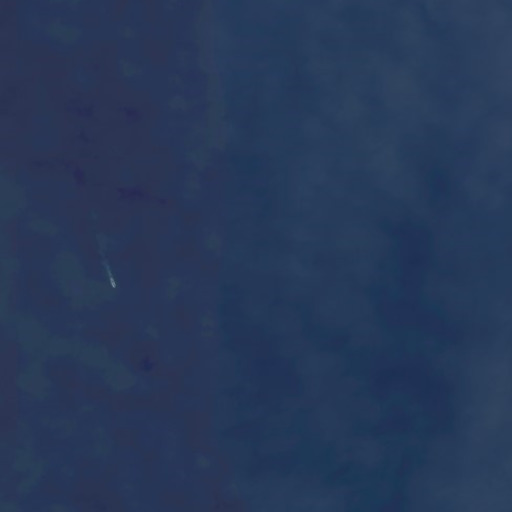ship: (107, 274, 119, 292)
